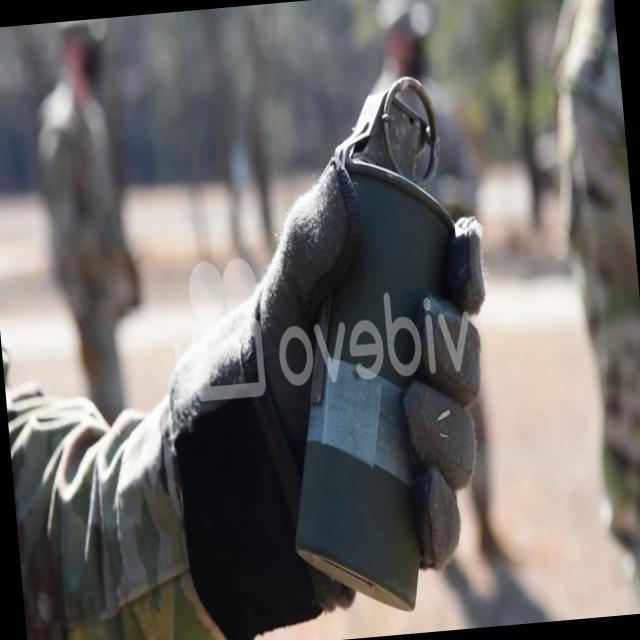grenade: (247, 68, 498, 616)
